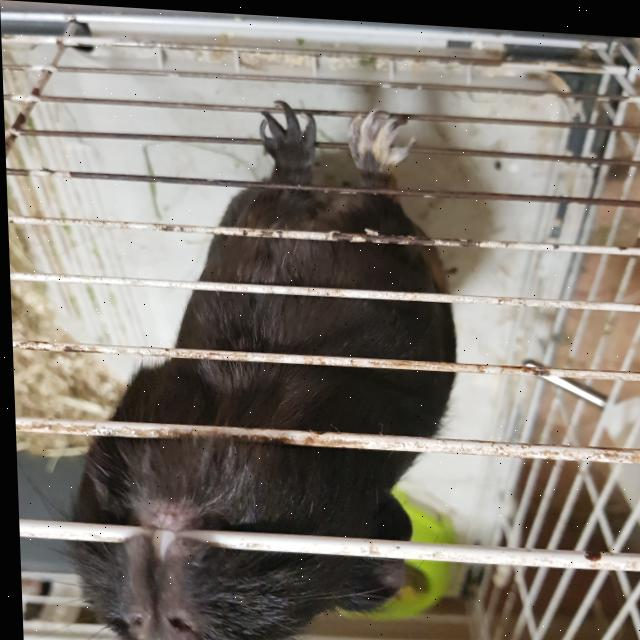guinea pig: (45, 81, 471, 640)
